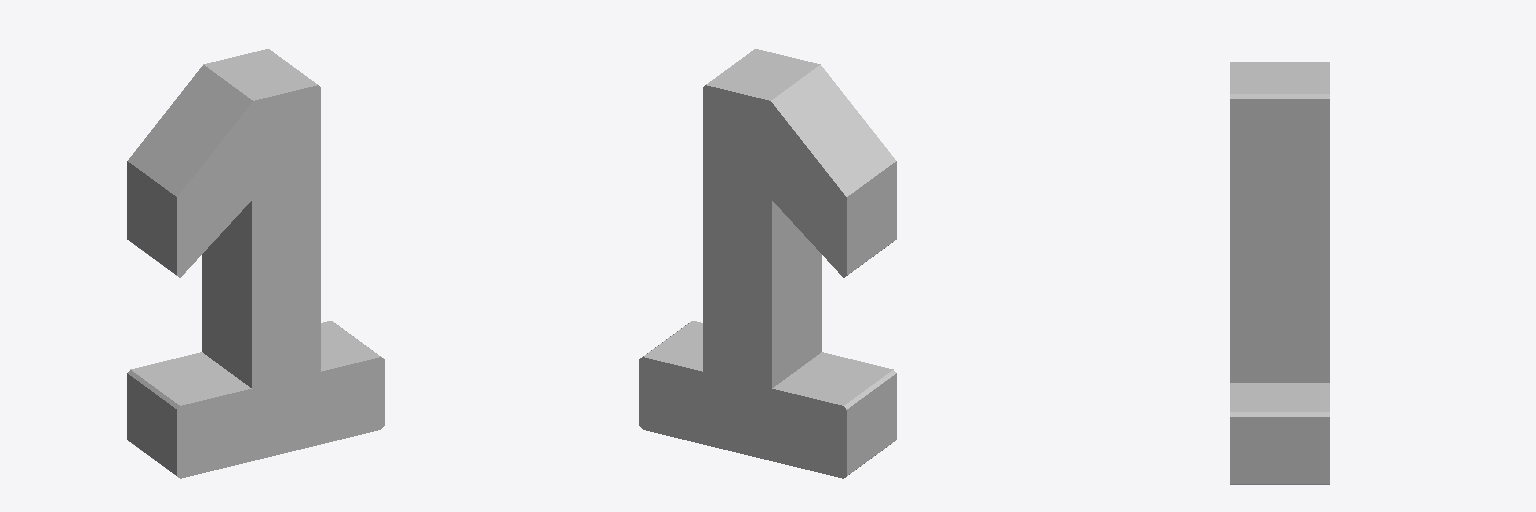
3 renders of one model, left to right at view 1: azimuth 30°, elevation 25°; view 2: azimuth 150°, elevation 25°; view 3: azimuth 270°, elevation 25°, orthographic.
Visible parts, largest first — view 1: text: ABCDEFGHIJKLMNOPQRSTUVWXYZ[number redacted]; view 2: text: ABCDEFGHIJKLMNOPQRSTUVWXYZ[number redacted]; view 3: text: ABCDEFGHIJKLMNOPQRSTUVWXYZ[number redacted].
Boxes of the visible parts, box(x1,y1,x2,y2) form: text: ABCDEFGHIJKLMNOPQRSTUVWXYZ[number redacted]: box(127, 49, 384, 478); text: ABCDEFGHIJKLMNOPQRSTUVWXYZ[number redacted]: box(639, 49, 896, 478); text: ABCDEFGHIJKLMNOPQRSTUVWXYZ[number redacted]: box(1230, 62, 1329, 484).
Size of the model in its own units: 60 by 99.57 by 25.